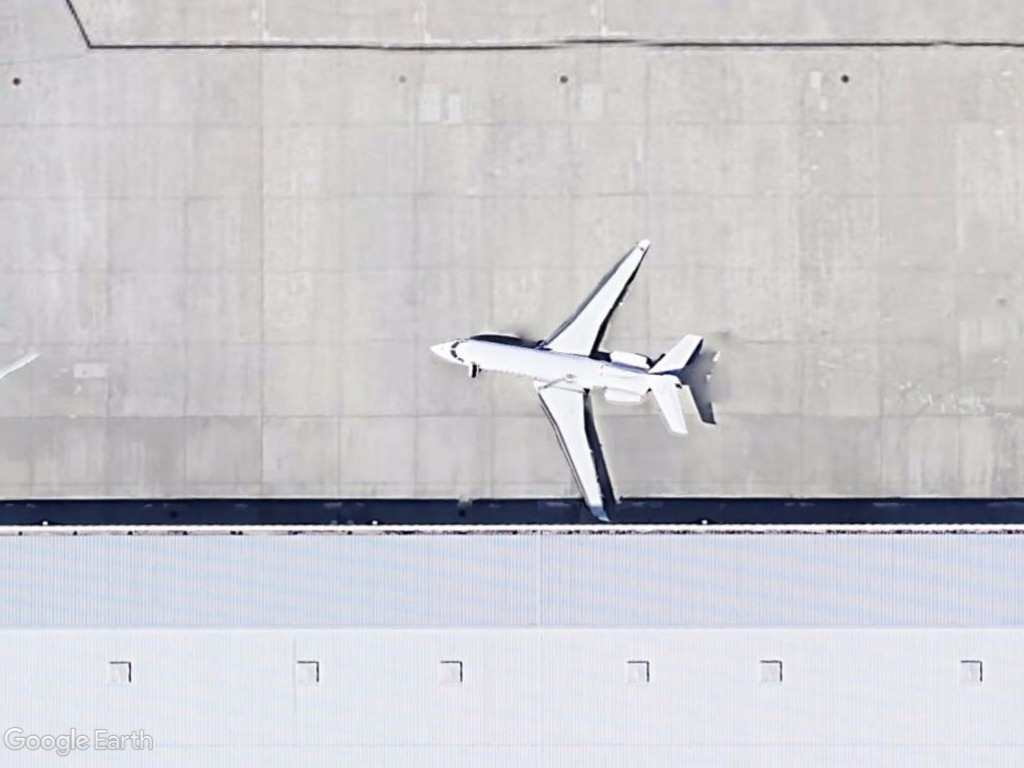chartered: (425, 235, 708, 522)
